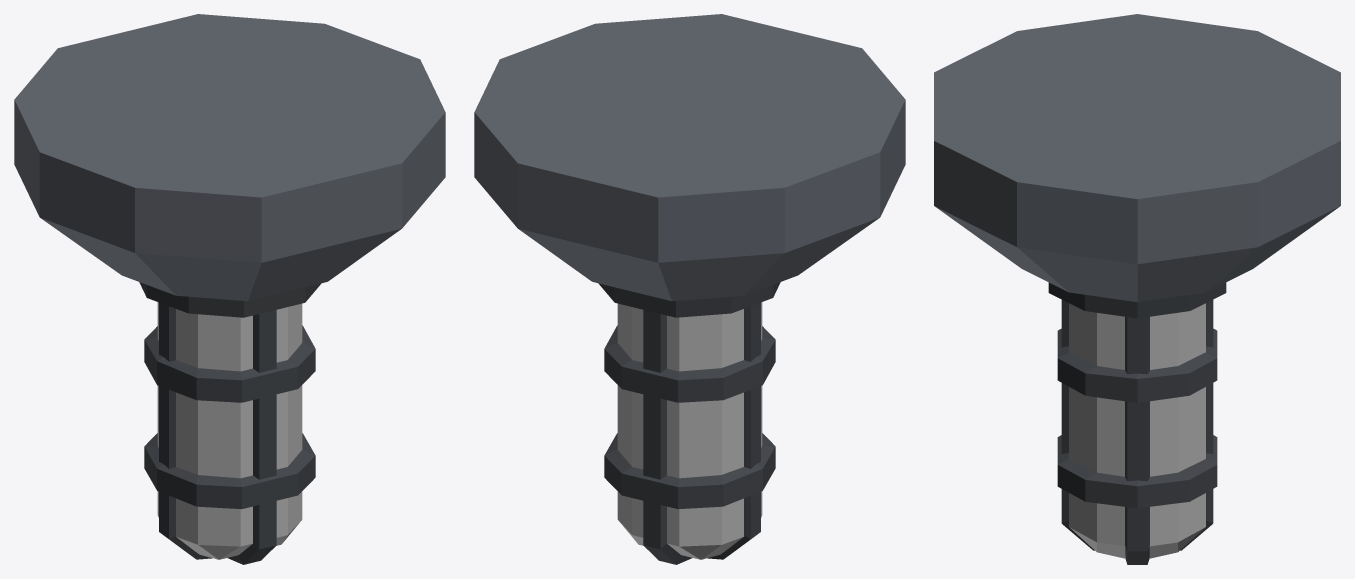
File: SM_Prop_Light_Industrial_Ceiling_01.obj
The picture shows the model from 3 angles, left to right: view 1: azimuth 30°, elevation 25°; view 2: azimuth 150°, elevation 25°; view 3: azimuth 270°, elevation 25°; orthographic projection.
Visible parts, largest first — view 1: SM_Prop_Light_Industrial_Ceiling_01_0; view 2: SM_Prop_Light_Industrial_Ceiling_01_0; view 3: SM_Prop_Light_Industrial_Ceiling_01_0.
Part boxes in pixels (x1=…): SM_Prop_Light_Industrial_Ceiling_01_0: x1=14, y1=14, x2=445, y2=564; SM_Prop_Light_Industrial_Ceiling_01_0: x1=474, y1=14, x2=905, y2=564; SM_Prop_Light_Industrial_Ceiling_01_0: x1=934, y1=14, x2=1340, y2=564.
Size of the model in its own units: 0.3604 by 0.4039 by 0.3346.
1 material, 1 textured.
